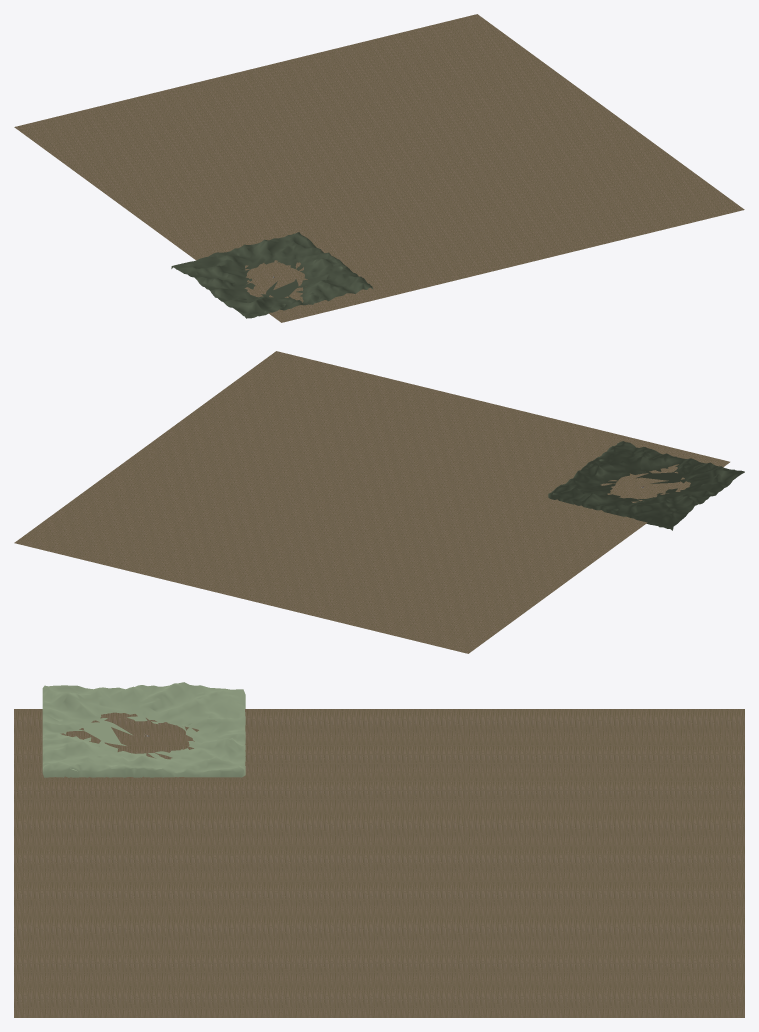
The model's file is map_tdm_pubh.glb.
3 renders of one model, top to bottom at view 1: azimuth 30°, elevation 25°; view 2: azimuth 150°, elevation 25°; view 3: azimuth 270°, elevation 25°, orthographic. The views are drawn at different scales.
Parts seen in each view (by area): view 1: Plane, Mesh_0006.rip; view 2: Plane, Mesh_0006.rip; view 3: Plane, Mesh_0006.rip.
Boxes of the visible parts, box(x1,y1,x2,y2) form: Plane: box(14, 14, 744, 322); Mesh_0006.rip: box(171, 232, 373, 318); Plane: box(14, 351, 729, 653); Mesh_0006.rip: box(548, 441, 744, 530); Plane: box(14, 709, 744, 1017); Mesh_0006.rip: box(42, 682, 245, 777).
Bounding box in the file's own units: 15324 × 374 × 14519.
Materials: 34 (5 with a texture image).
